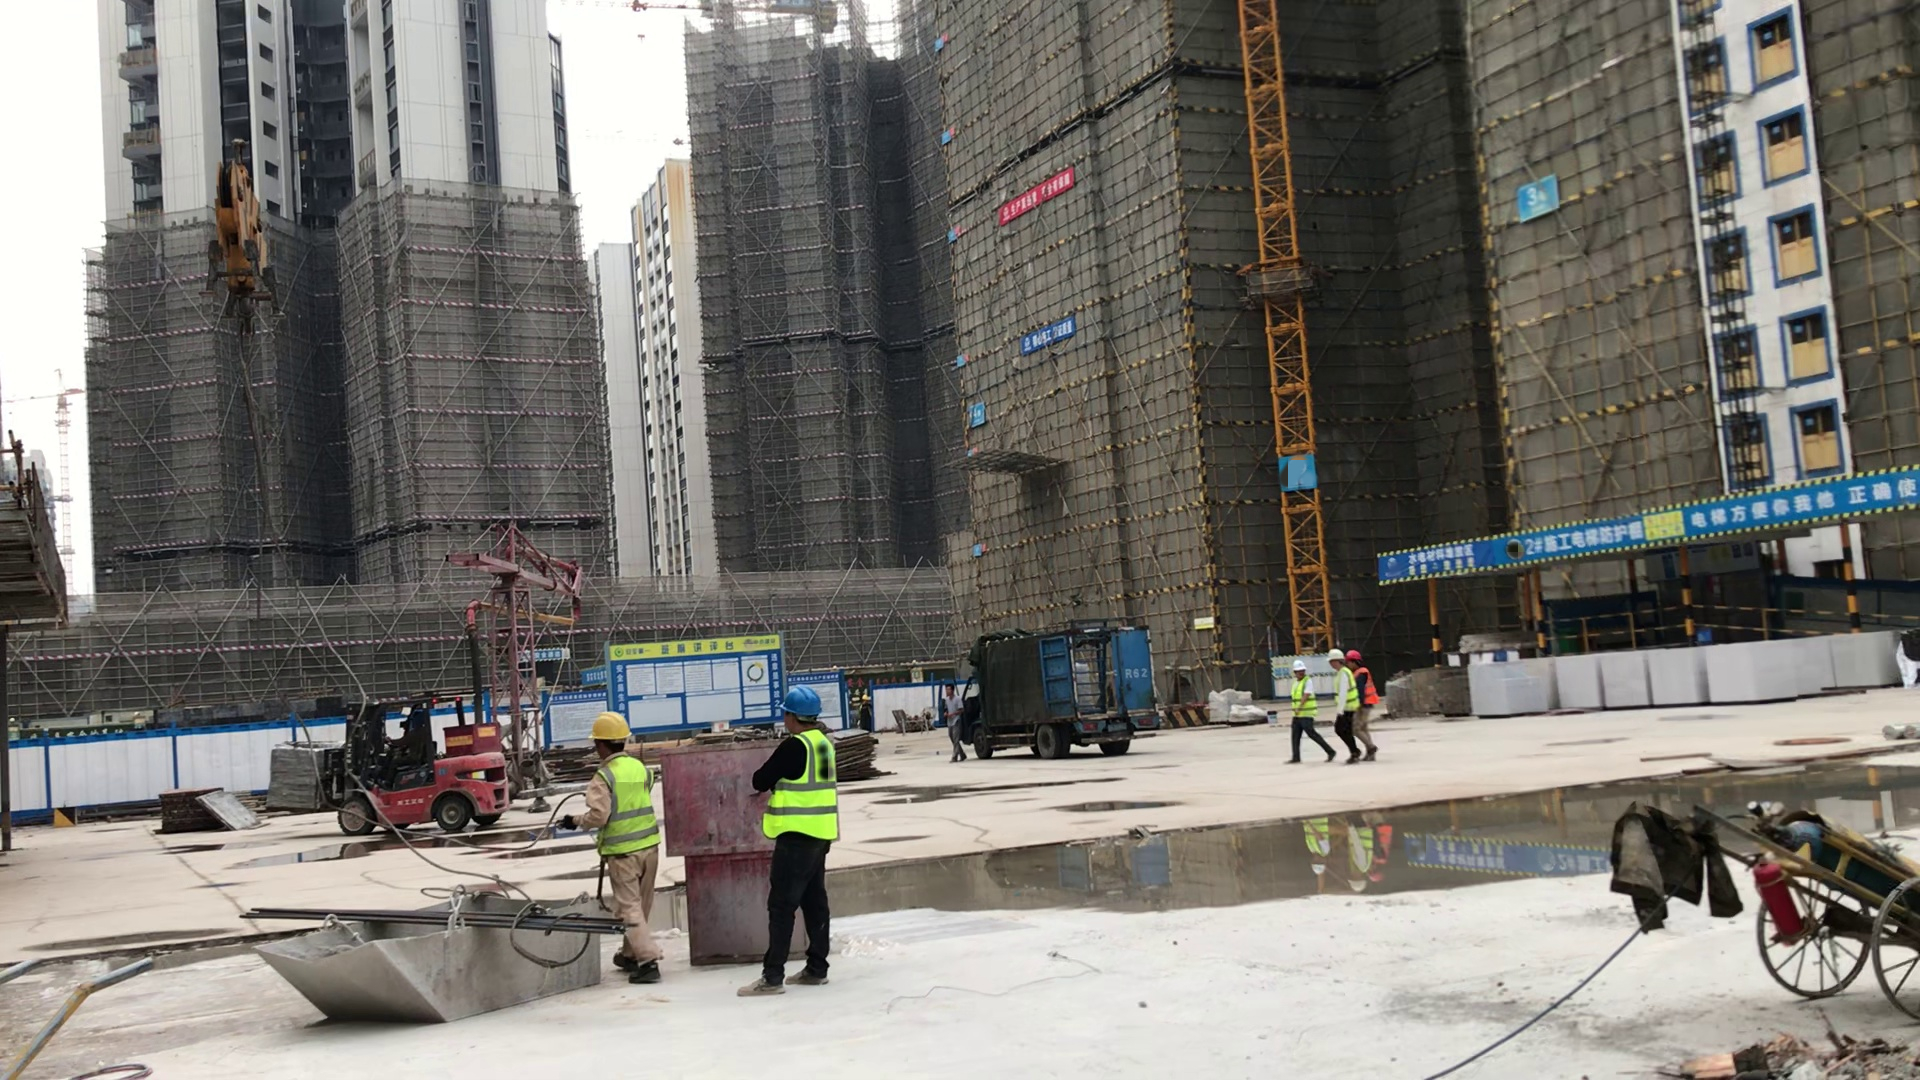board: (819, 723, 893, 786), (207, 795, 264, 828)
brick: (1453, 630, 1908, 720), (254, 732, 338, 815)
fence: (1542, 607, 1895, 655)
handcart: (1580, 754, 1920, 1034), (2, 924, 204, 1080)
helmet: (777, 684, 836, 728), (586, 707, 633, 748), (1345, 643, 1366, 668), (1326, 647, 1345, 668), (1288, 657, 1308, 674)
hook: (172, 146, 311, 359)
hopper: (229, 895, 633, 1034)
person: (552, 700, 679, 1026), (752, 672, 866, 1006), (1278, 650, 1332, 774), (1343, 633, 1396, 745), (1319, 638, 1362, 772), (931, 674, 981, 766)
rebar: (217, 880, 672, 955)
slogan: (1364, 468, 1920, 591), (596, 632, 783, 734), (1387, 820, 1619, 896), (985, 164, 1090, 237), (1272, 439, 1342, 509), (1004, 307, 1081, 366), (1500, 173, 1566, 227), (564, 662, 621, 689), (517, 639, 573, 665), (964, 393, 995, 434)
vest: (752, 726, 857, 865), (583, 755, 666, 866), (1347, 665, 1382, 709), (1286, 676, 1321, 720), (1328, 666, 1360, 713)
